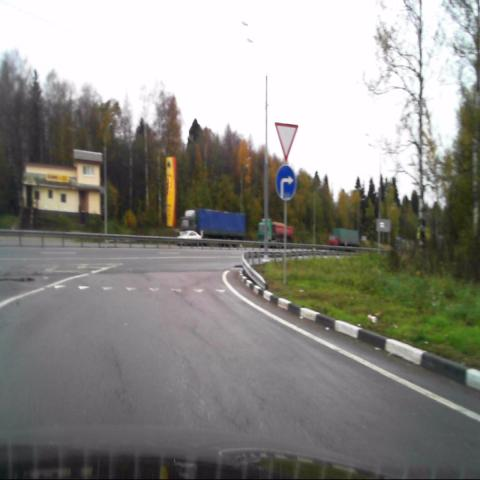4_1_2: (276, 167, 295, 200)
